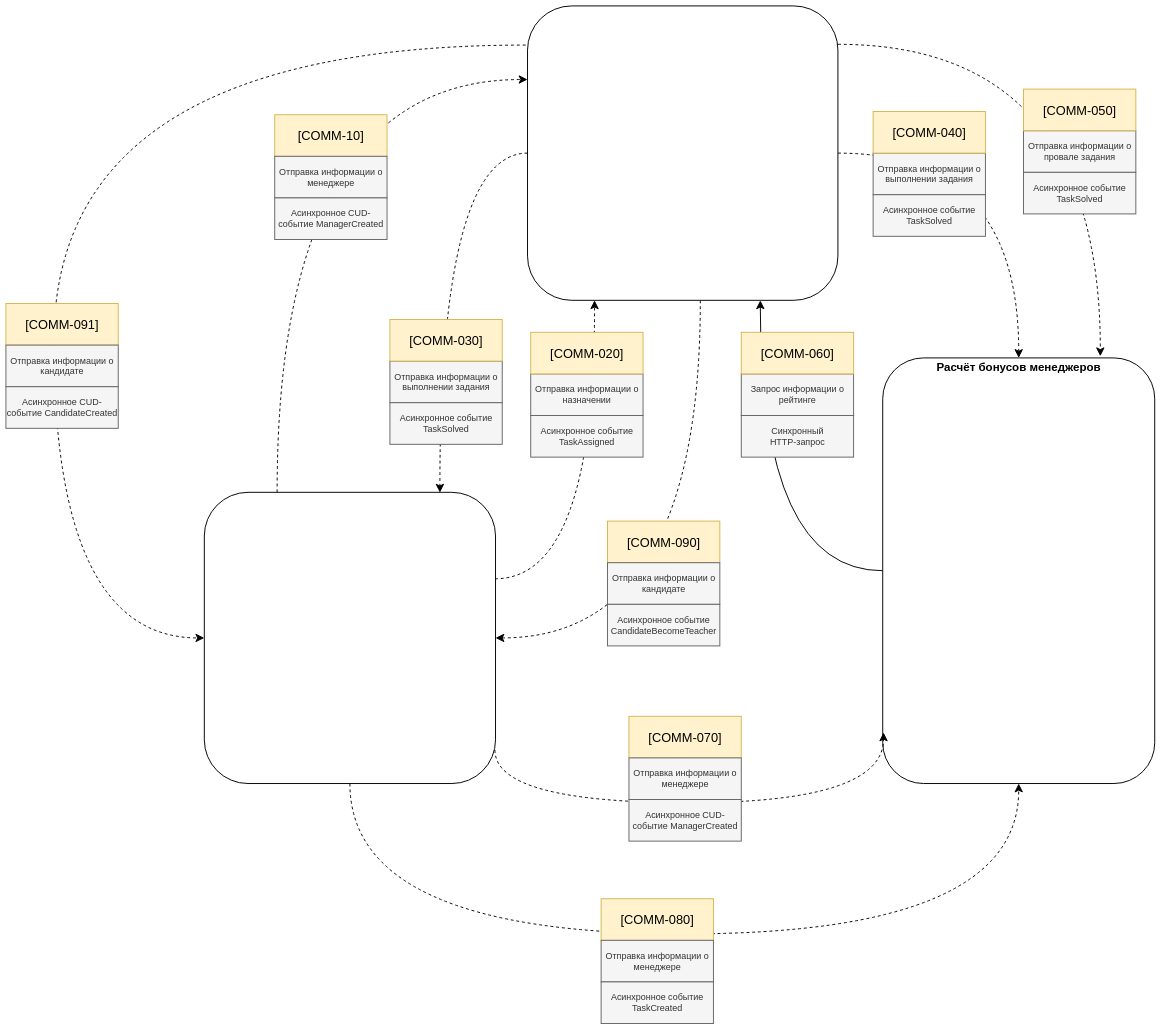
Image size: 1161x1029. Some labels were removed from this diagram. Each missing label, with the centre of its shape:
Найм учителей: (682,153)
Создание заданий для будущих учителей и управление ими: (350,638)
